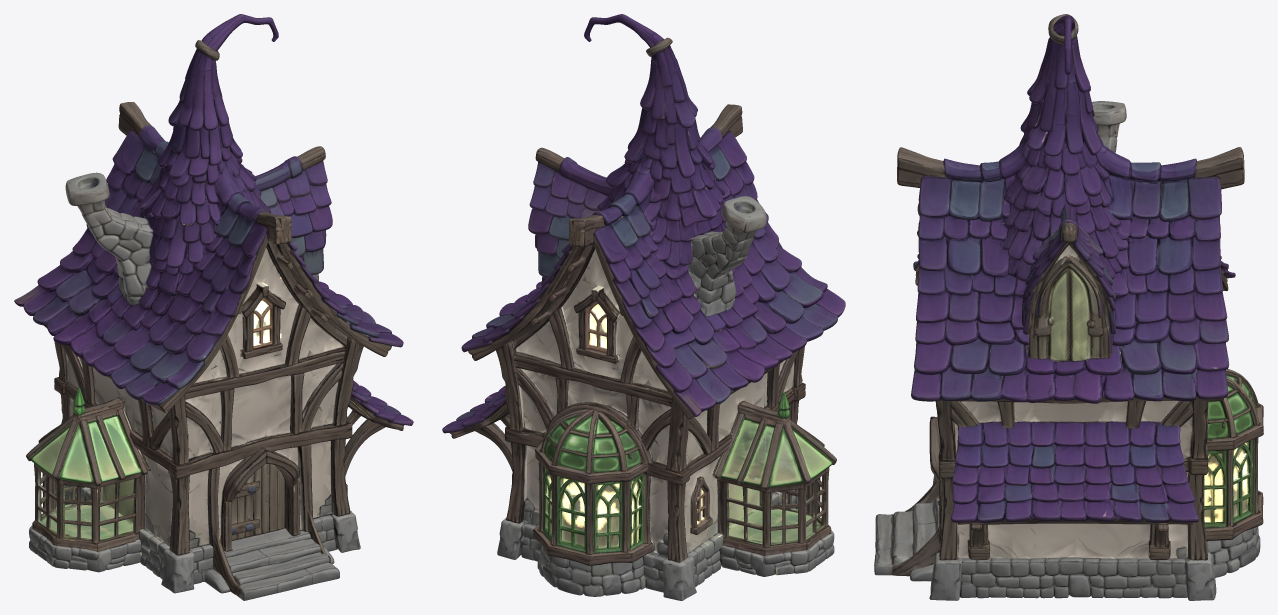
Rendered from SilverPotionShop_300k.glb.
3 views of the same model, side by side, from view 1: azimuth 30°, elevation 25°; view 2: azimuth 150°, elevation 25°; view 3: azimuth 270°, elevation 25° (orthographic). The views are drawn at different scales.
Parts seen in each view (by area): view 1: Mesh_0; view 2: Mesh_0; view 3: Mesh_0.
Boxes of the visible parts, bbox=[...] form: Mesh_0: bbox=[14, 14, 413, 600]; Mesh_0: bbox=[442, 14, 845, 600]; Mesh_0: bbox=[874, 14, 1263, 600].
Size of the model in its own units: 1.27 by 1.9 by 1.22.
Materials: 1 (1 with a texture image).
